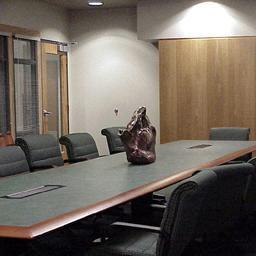Otro Obstaculo: (116, 104, 160, 170)
Puerta: (43, 43, 72, 160)
